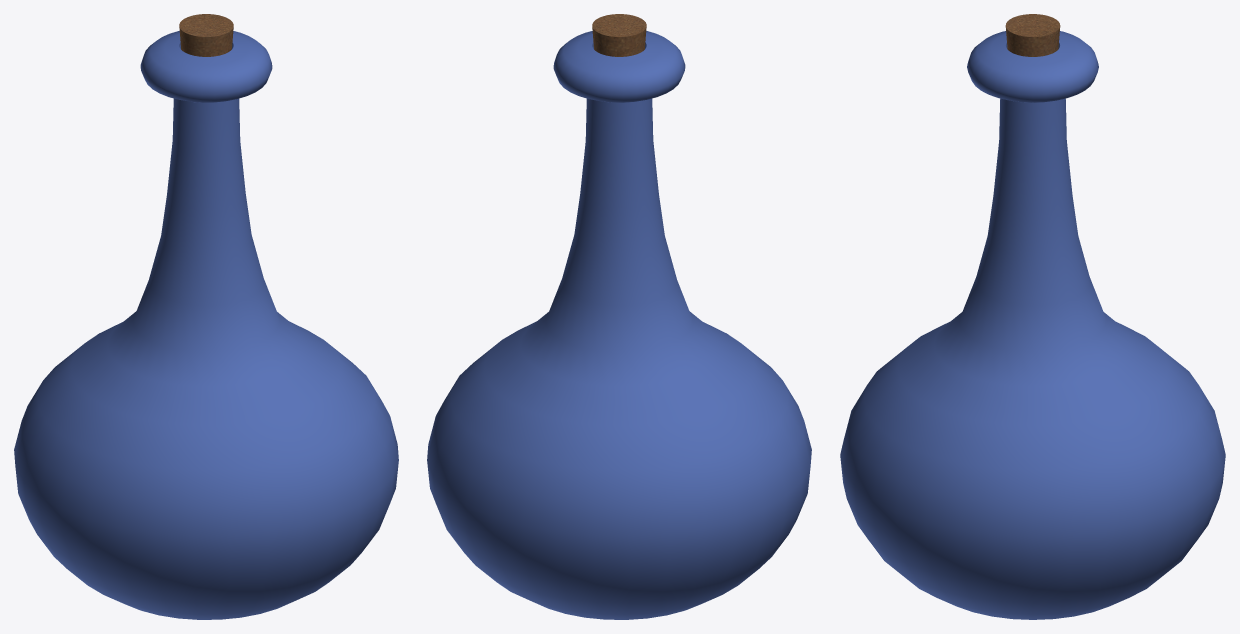
File: flask_mana.gltf
3 views of the same model, side by side, from view 1: azimuth 30°, elevation 25°; view 2: azimuth 150°, elevation 25°; view 3: azimuth 270°, elevation 25° (orthographic).
Visible parts, largest first — view 1: Cylinder; view 2: Cylinder; view 3: Cylinder.
Boxes of the visible parts, bbox=[...] form: Cylinder: bbox=[14, 14, 398, 619]; Cylinder: bbox=[427, 14, 811, 619]; Cylinder: bbox=[840, 14, 1225, 619].
Size of the model in its own units: 0.1154 by 0.1893 by 0.1154.
1 material, 1 textured.
